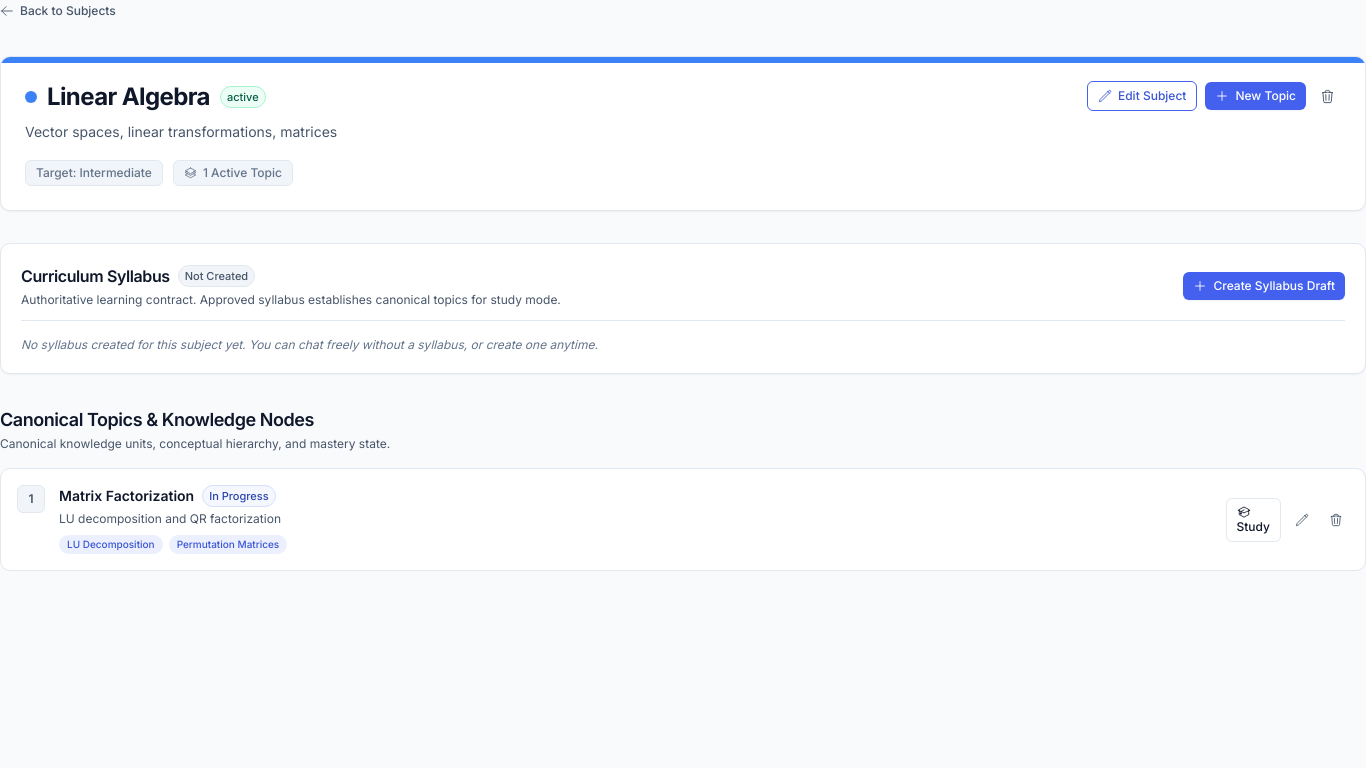
Test case: Subjects and Topics Frontend Workflows (Phase 03) › renders SubjectDetailPage with topics and manages topic creation
Expected: the heading "Linear Algebra" is shown, 47,81 -> 210,113
Expected: the heading "Matrix Factorization" is shown, 59,486 -> 194,506
# Open Create Topic Modal
Click the button "New Topic": click(1256, 96) 1205,82 -> 1306,110
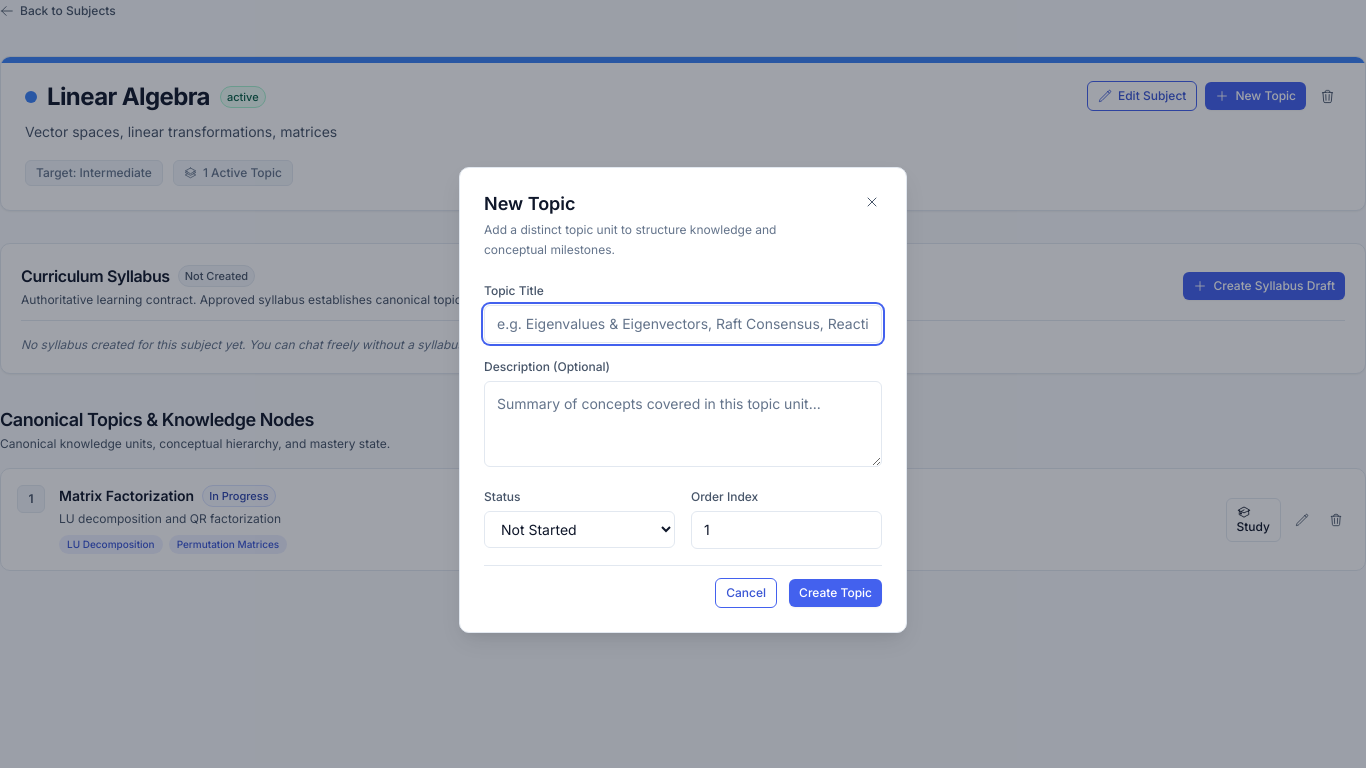
Now the dialog is shown
Now the heading "New Topic" is shown, box 484,193 -> 576,214
# Fill form
Replace the text in the field labelled "Topic Title" with "Spectral Theorem": (683, 324) 484,305 -> 882,343
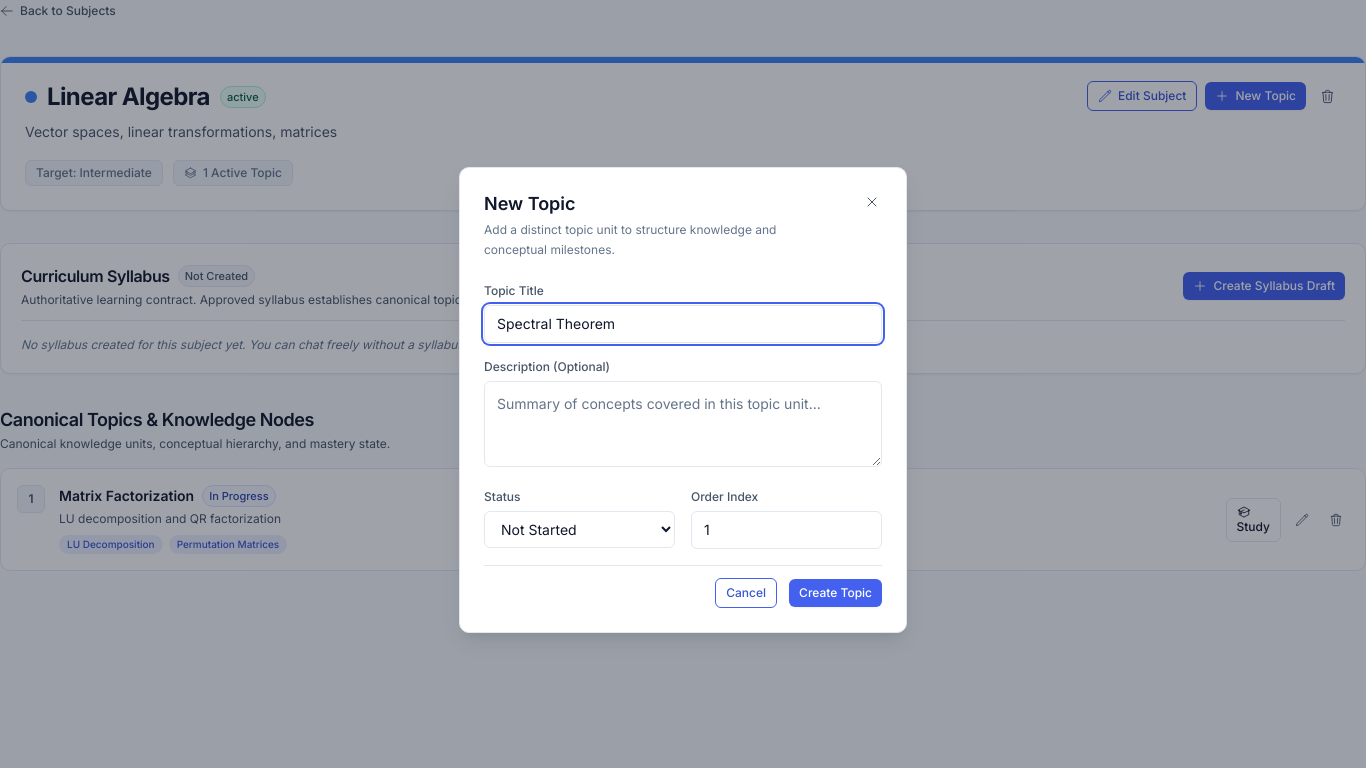
Click the button "Create Topic": click(836, 593) 789,579 -> 882,607
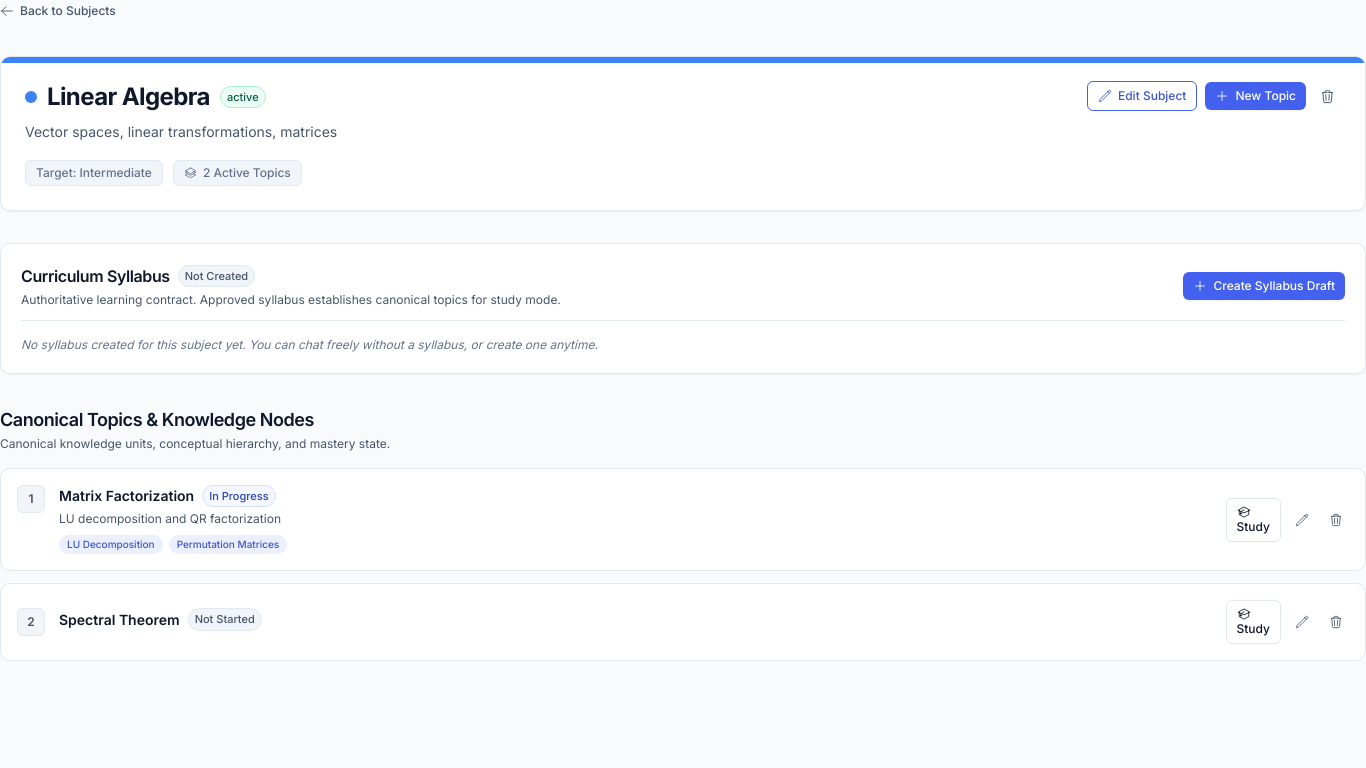
Now the heading "Spectral Theorem" is shown, box 59,610 -> 180,630
